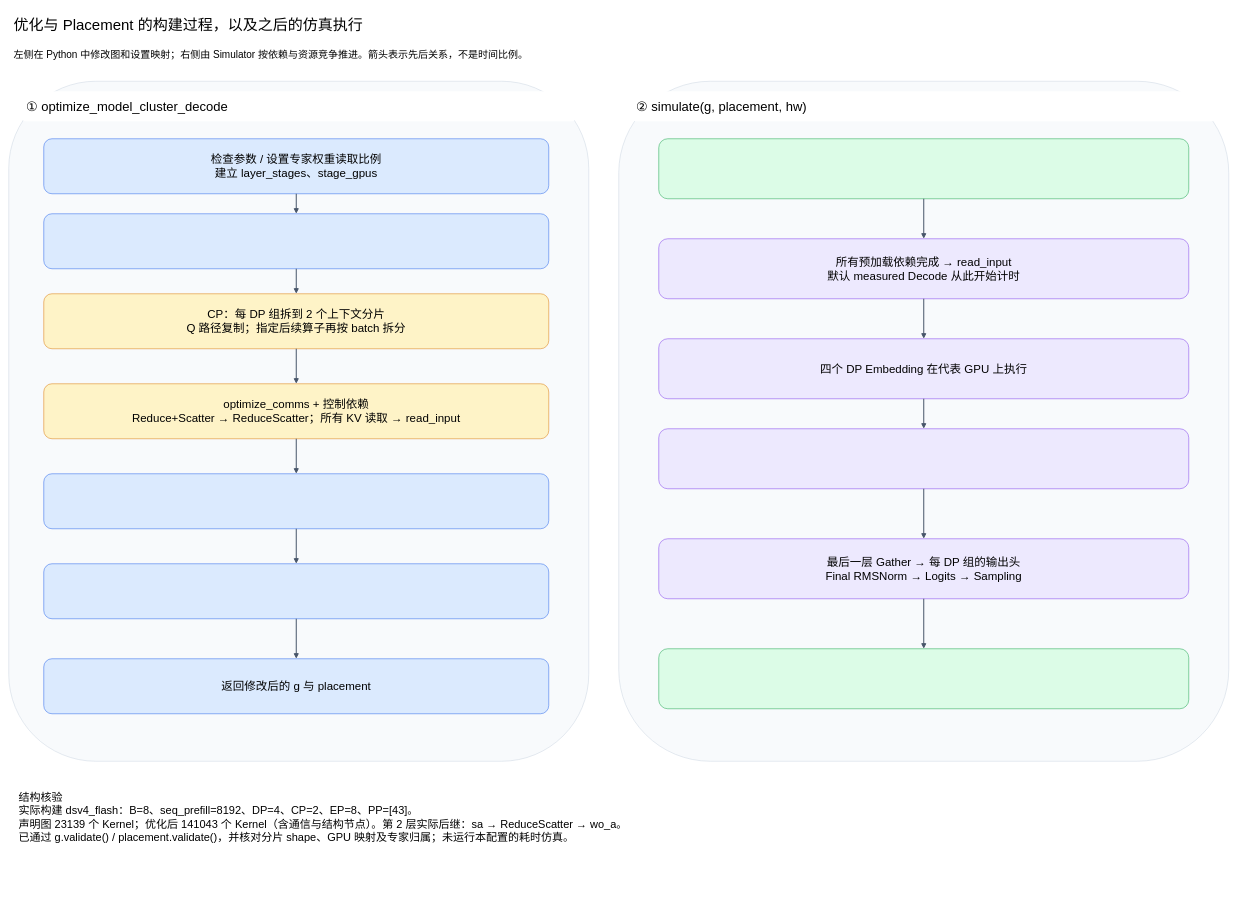
The diagram is 1238 pixels wide and 902 high, and some of its shapes have lost their labels. The shapes that lost their labels are listed below. From the top down, each one's centre as x and y in pixels, then its label:
the point at 923,168: 预加载：所有层的主 KV / index KV SSD → 对应 rank 的 HBM
the point at 296,241: DP：batch 8 → 4 组 × 每组 2 条序列 拆输入、输出头、每层算子、KV 读取和 barrier
the point at 923,458: 第 0 层 → 第 1 层 → … → 第 42 层 每层按第 1 页的分片与通信依赖推进
the point at 296,501: 创建 Placement 设 KV 来源 SSD、token 来源 DRAM、算子 GPU、专家归属
the point at 296,591: 补齐通信 / barrier 的内存位置 校验图与 Placement，记录 KV 占用
the point at 923,678: 8 个 barrier 分片等待 cache 与输出 完成后汇总 trace、耗时和峰值内存
